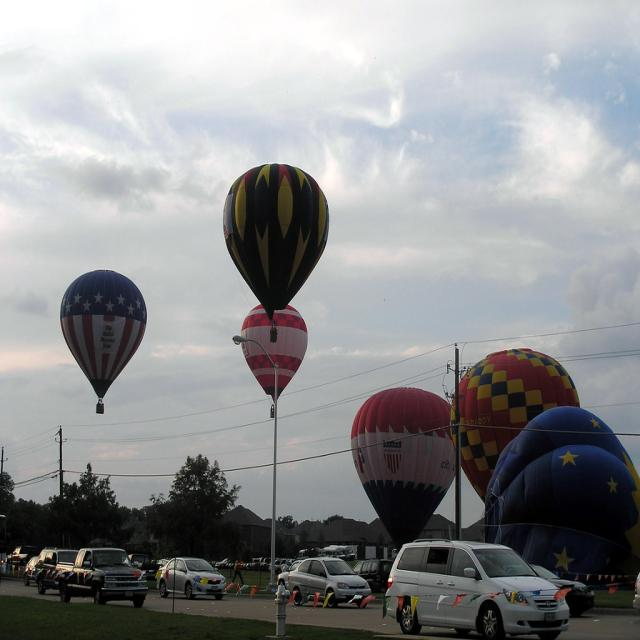balloon: (481, 405, 640, 605), (459, 348, 588, 511), (223, 162, 330, 343), (353, 389, 459, 550), (60, 268, 148, 415), (239, 307, 312, 414)
